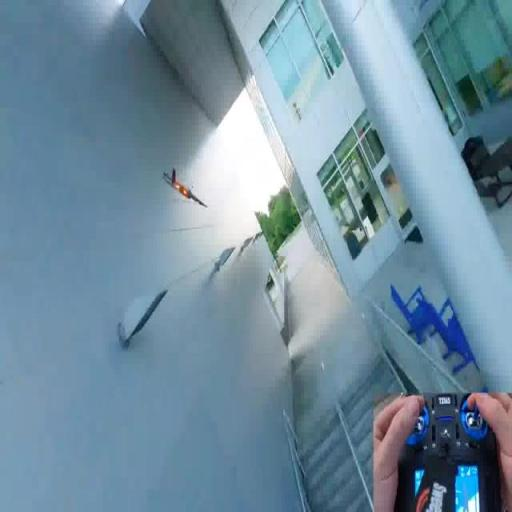uav: (162, 164, 210, 217)
